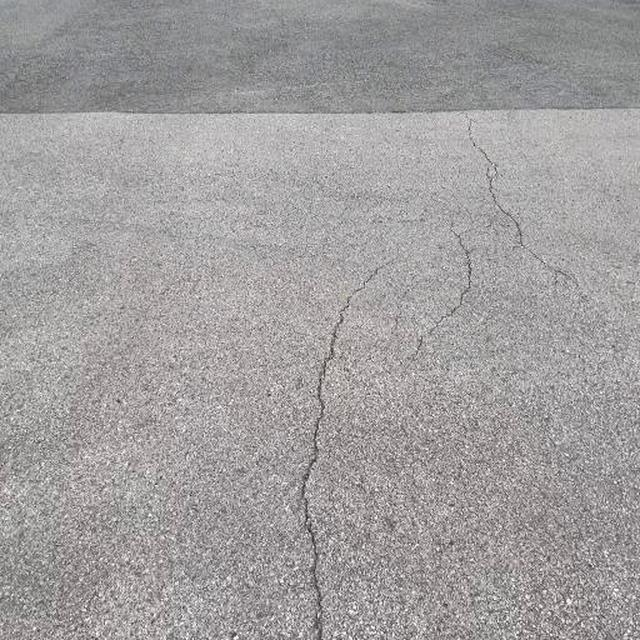Memanjang: (286, 257, 397, 640), (445, 116, 580, 290)
